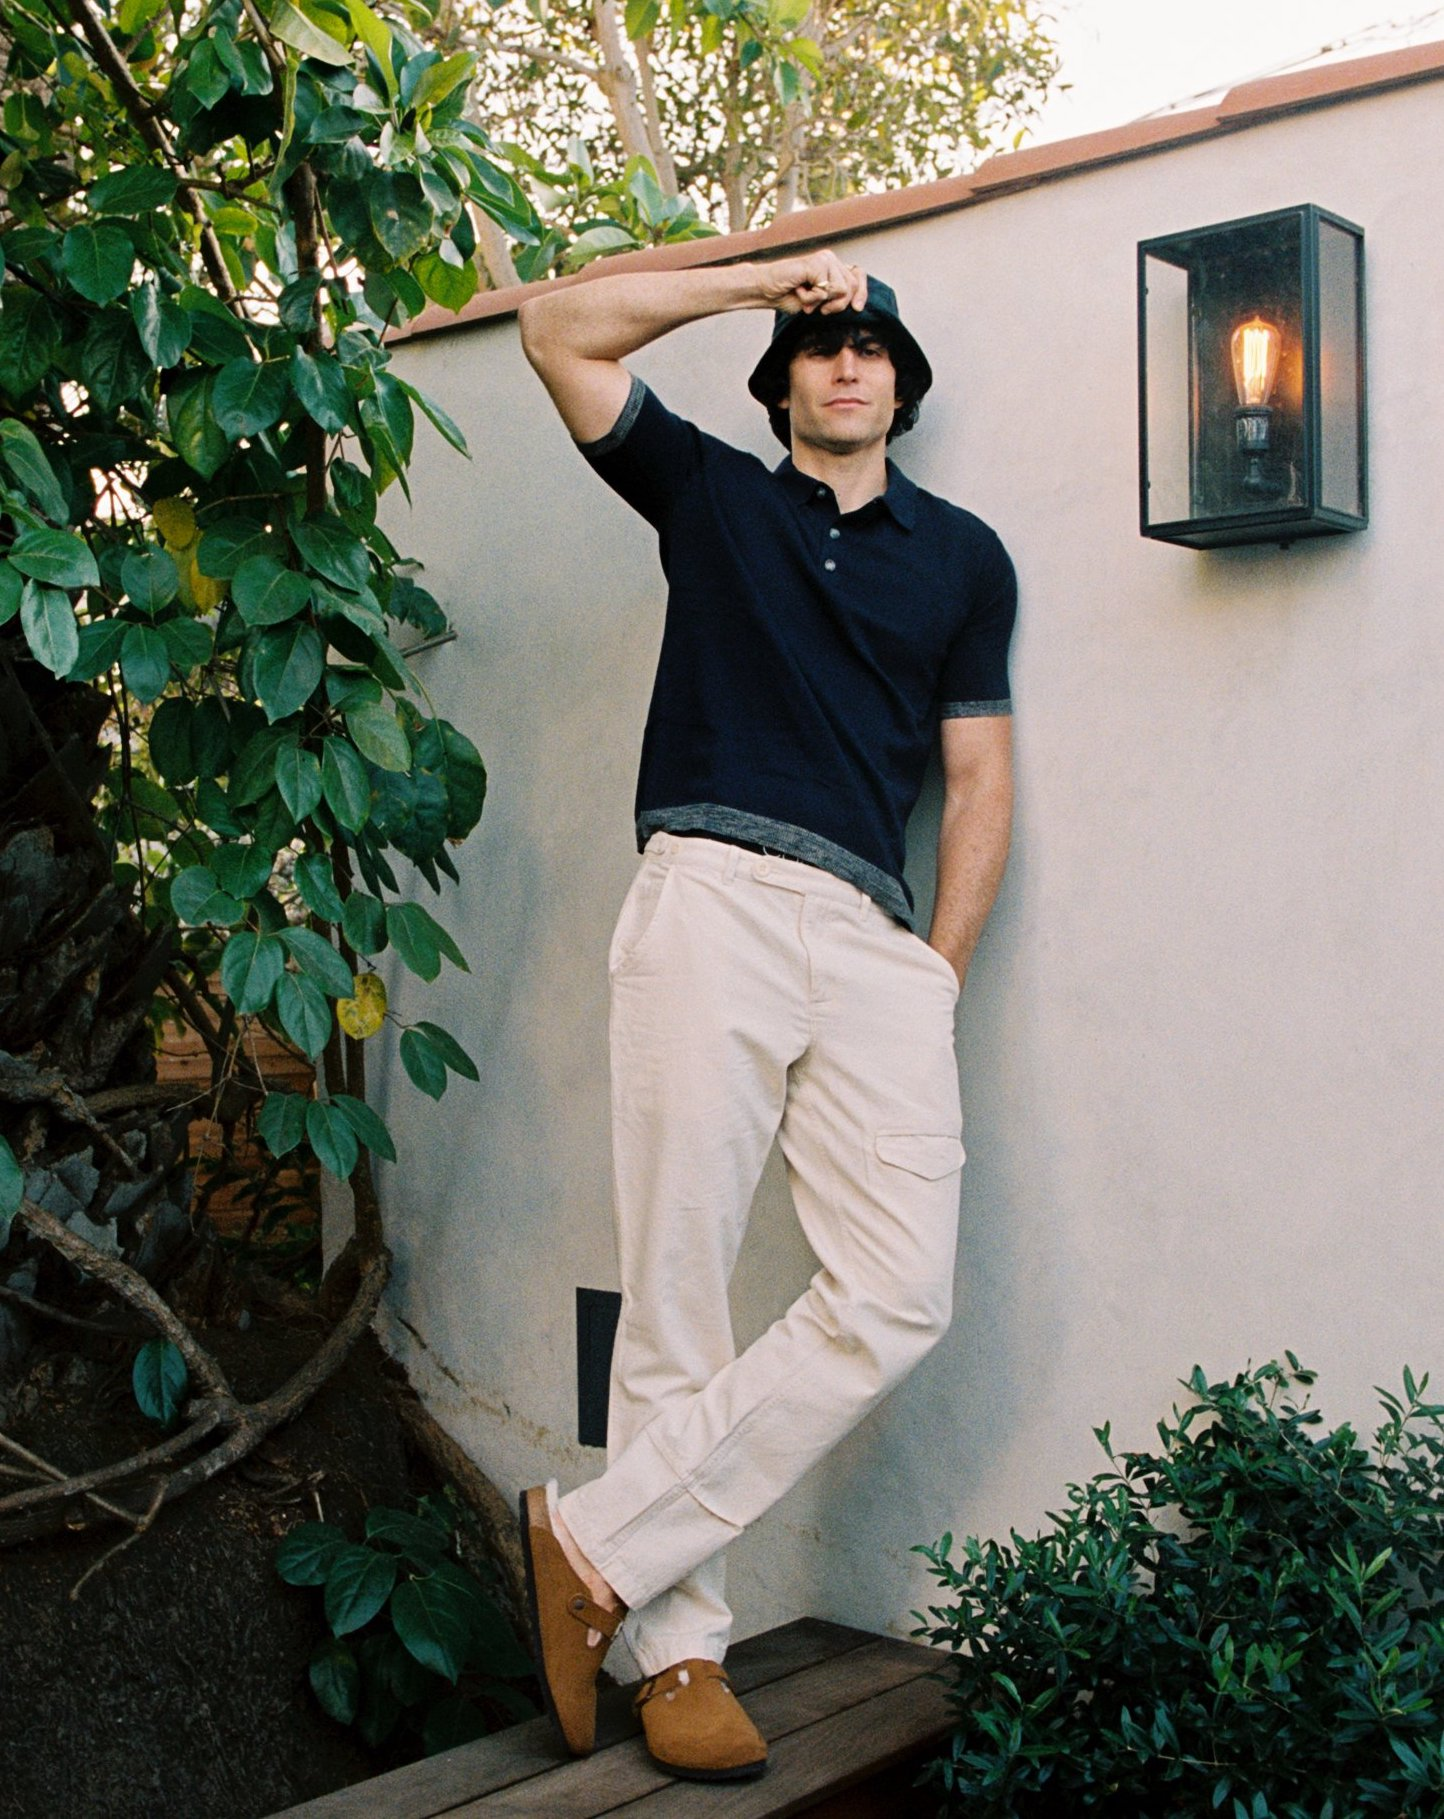polo shirt: (651, 422, 1011, 887)
